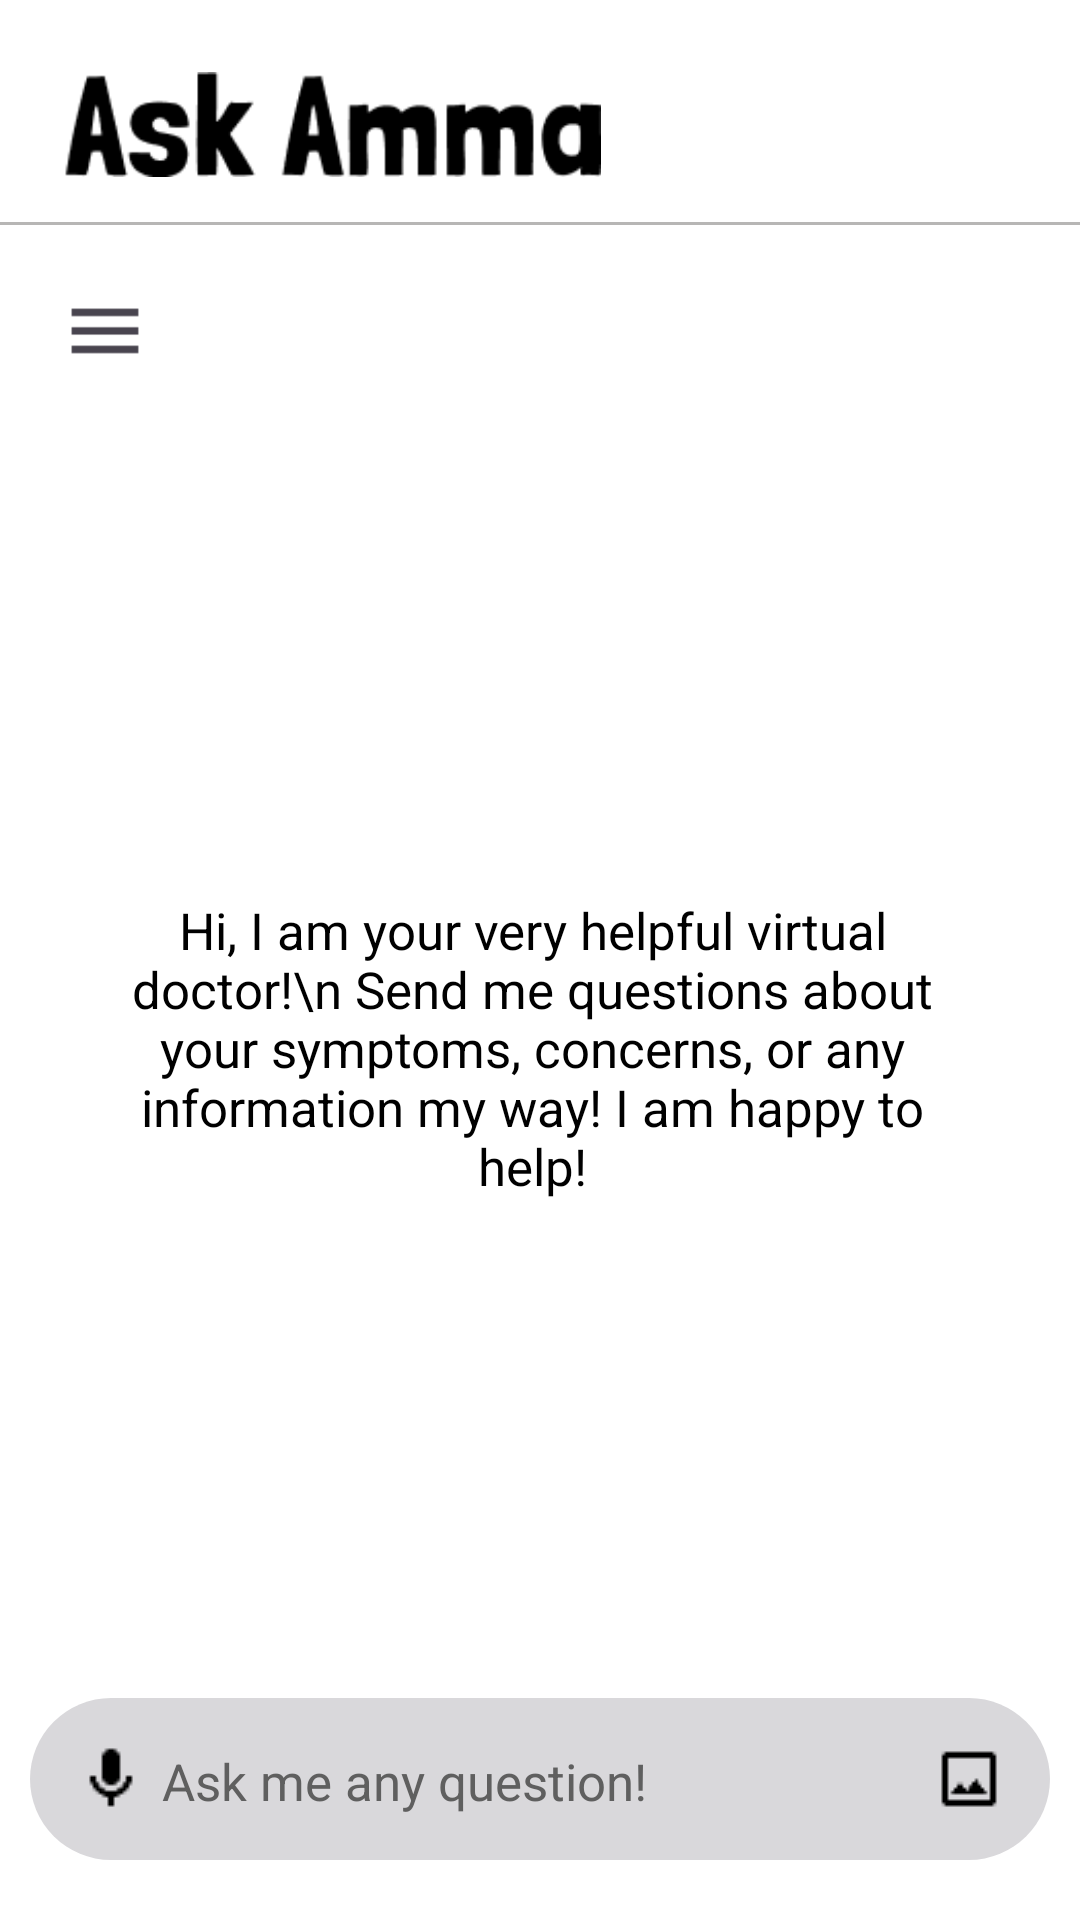

Locate icon controls on the screen. Image size 1080×1920, boxes as box=[x1, y1, x2, y2].
menu: box=[71, 308, 139, 354]
